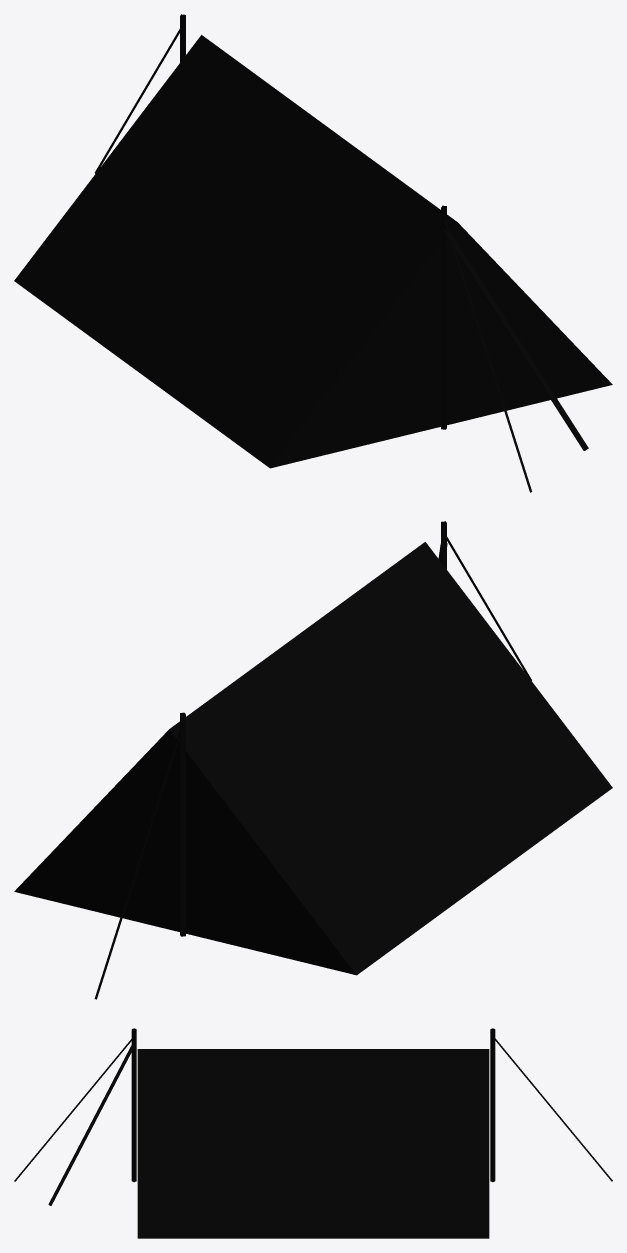
File: SM_tent_torn.fbx
3 views of the same model, one above another, from view 1: azimuth 30°, elevation 25°; view 2: azimuth 150°, elevation 25°; view 3: azimuth 270°, elevation 25° (orthographic). The views are drawn at different scales.
Parts seen in each view (by area): view 1: tent_torn; view 2: tent_torn; view 3: tent_torn.
Part boxes in pixels (box(x1,y1,x2,y2)): tent_torn: box(14, 14, 612, 492); tent_torn: box(14, 521, 612, 999); tent_torn: box(14, 1028, 612, 1238).
Bounding box in the file's own units: 1.7 × 1.05 × 3.75.
